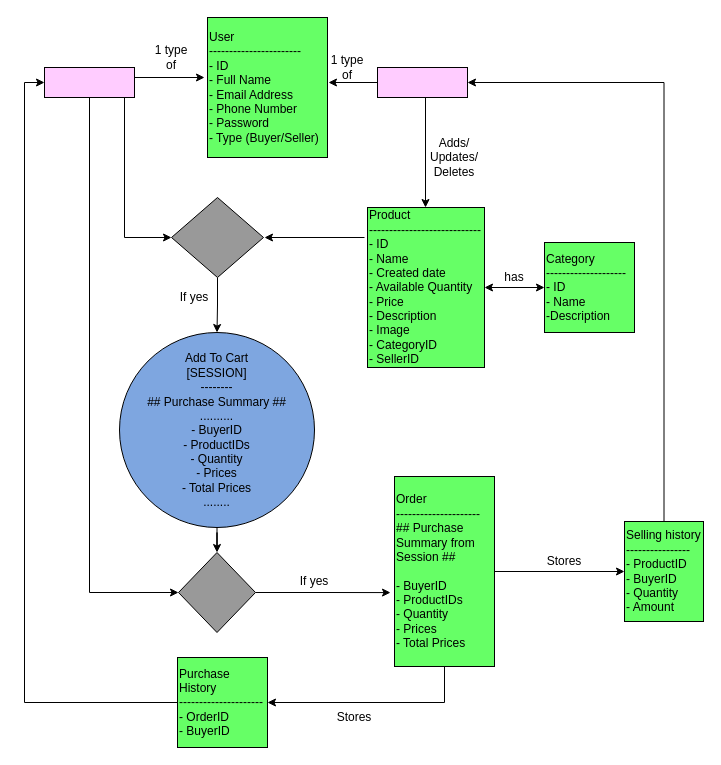
Some shapes in this 721 by 765 pixel diagram are drawn without their labels. Here are the shapes that lost their labels. From the top down, the box of each, then its label:
(44, 66, 134, 98): Buyer
(376, 66, 468, 98): Seller
(170, 196, 264, 278): Add to Cart?
(178, 552, 256, 632): Purchase?
